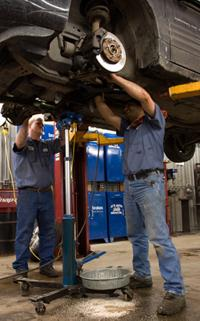person: (96, 72, 186, 317)
